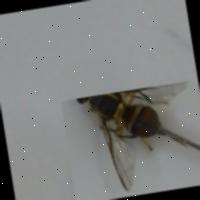Oriental-fruit-fly: (59, 80, 200, 200)
